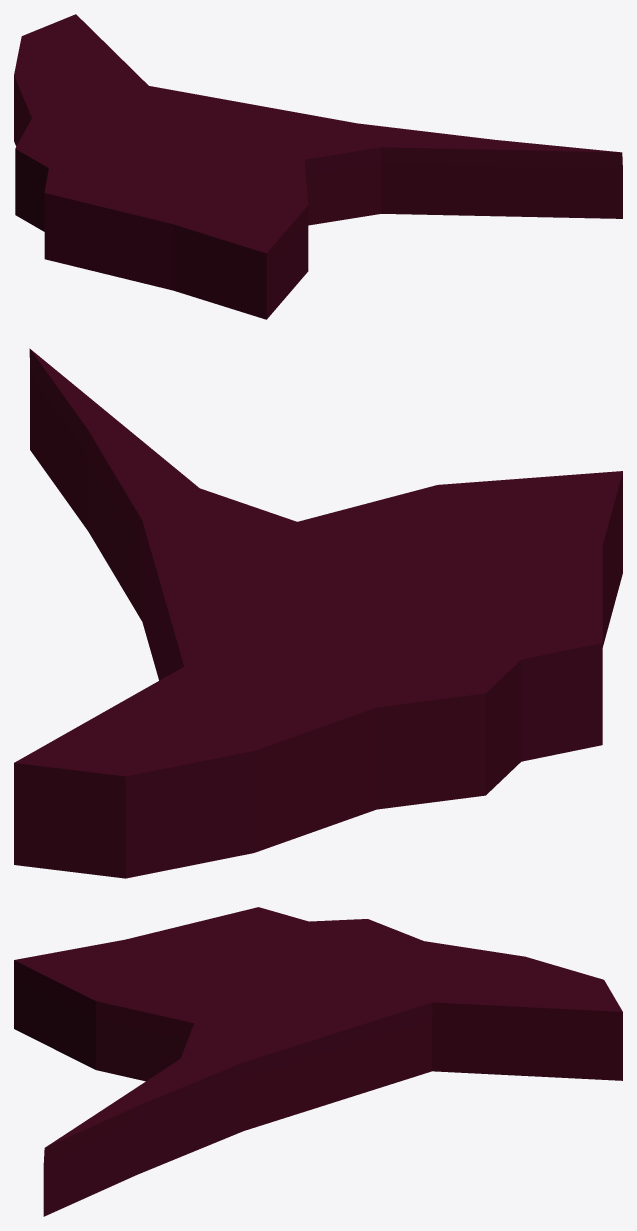
Rendered from sym_bird.fbx.
3 renders of one model, top to bottom at view 1: azimuth 30°, elevation 25°; view 2: azimuth 150°, elevation 25°; view 3: azimuth 270°, elevation 25°, orthographic. The views are drawn at different scales.
Visible parts, largest first — view 1: Bird; view 2: Bird; view 3: Bird.
Boxes of the visible parts, x1,y1,x2,y2 form: Bird: [14, 14, 622, 319]; Bird: [14, 348, 622, 878]; Bird: [14, 907, 622, 1216].
Bounding box in the file's own units: 497 × 66.24 × 531.
